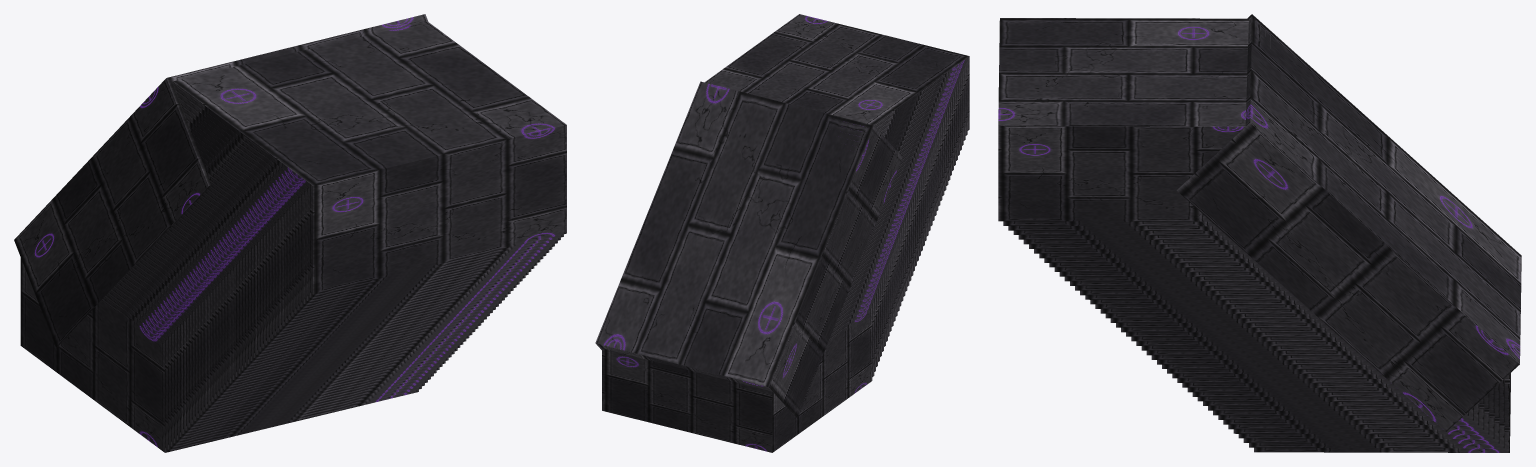
The model's file is Slope.gltf.
The picture shows the model from 3 angles, left to right: view 1: azimuth 30°, elevation 25°; view 2: azimuth 150°, elevation 25°; view 3: azimuth 270°, elevation 25°; orthographic projection. The views are drawn at different scales.
Parts seen in each view (by area): view 1: 立方体.001, COL2, 立方体.051, 立方体.003, 立方体.004, 立方体.002, 立方体.005, 立方体.006, 立方体.007, 立方体.008, 立方体.009, 立方体.010 (+40 smaller); view 2: COL2, 立方体.001, 立方体.051, 立方体.002, 立方体.003, 立方体.004, 立方体.005, 立方体.006, 立方体.012, 立方体.007, 立方体.011, 立方体.008 (+25 smaller); view 3: COL2, 立方体.001, 立方体.051, 立方体.050, 立方体.049, 立方体.047, 立方体.048, 立方体.046, 立方体.045, 立方体.044, 立方体.002, 立方体.004 (+40 smaller).
Boxes of the visible parts, <box> form: 立方体.001: <box>172,21,566,294</box>; COL2: <box>14,14,428,347</box>; 立方体.051: <box>20,258,418,452</box>; 立方体.003: <box>178,96,560,300</box>; 立方体.004: <box>181,104,557,303</box>; 立方体.002: <box>175,89,563,297</box>; 立方体.005: <box>183,111,554,307</box>; 立方体.006: <box>186,119,552,310</box>; 立方体.007: <box>189,126,549,313</box>; 立方体.008: <box>192,134,546,316</box>; 立方体.009: <box>194,141,543,319</box>; 立方体.010: <box>197,148,540,322</box>; COL2: <box>595,81,902,418</box>; 立方体.001: <box>705,14,969,130</box>; 立方体.051: <box>602,308,872,452</box>; 立方体.002: <box>839,61,967,135</box>; 立方体.003: <box>845,66,965,140</box>; 立方体.004: <box>850,71,963,145</box>; 立方体.005: <box>856,76,961,150</box>; 立方体.006: <box>884,81,959,155</box>; 立方体.012: <box>894,106,950,180</box>; 立方体.007: <box>886,86,957,160</box>; 立方体.011: <box>896,111,948,185</box>; 立方体.008: <box>888,91,955,165</box>; COL2: <box>1176,14,1521,431</box>; 立方体.001: <box>998,18,1255,221</box>; 立方体.051: <box>1254,373,1510,452</box>; 立方体.050: <box>1249,379,1504,448</box>; 立方体.049: <box>1243,383,1499,443</box>; 立方体.047: <box>1233,393,1489,434</box>; 立方体.048: <box>1238,388,1494,438</box>; 立方体.046: <box>1228,397,1484,429</box>; 立方体.045: <box>1223,402,1479,425</box>; 立方体.044: <box>1218,407,1473,420</box>; 立方体.002: <box>1003,23,1260,226</box>; 立方体.004: <box>1013,33,1270,235</box>.
Bounding box in the file's own units: 10.27 × 14.29 × 20.46.
53 materials, 53 textured.
